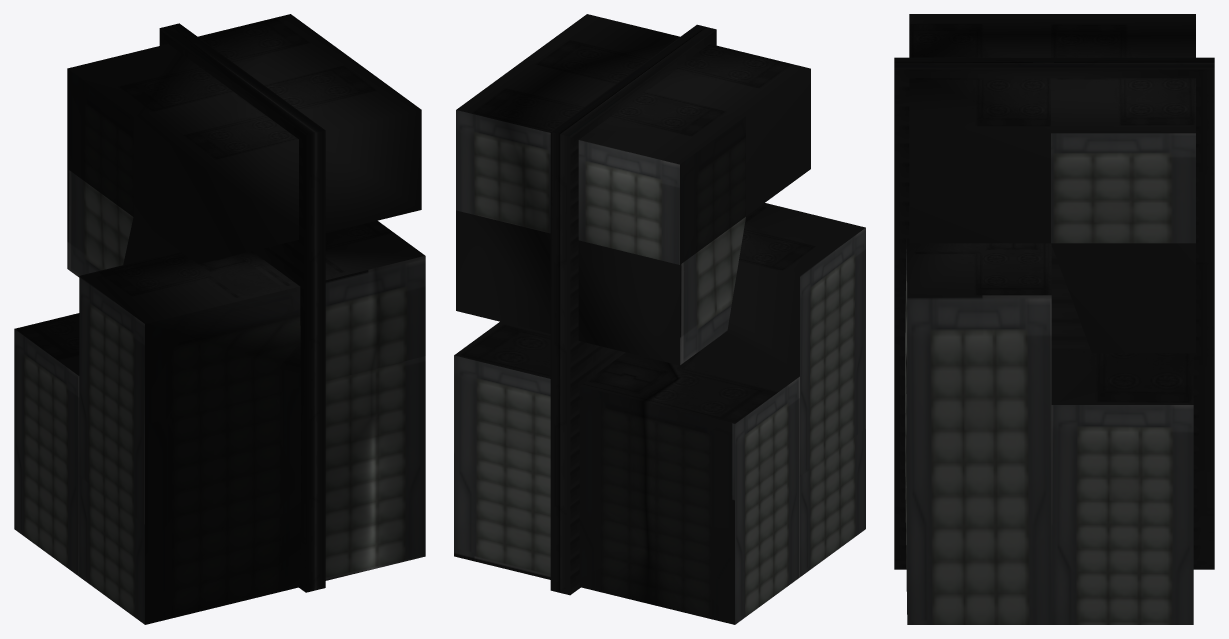
File: C.H.I.L.D. Building.fbx
3 renders of one model, left to right at view 1: azimuth 30°, elevation 25°; view 2: azimuth 150°, elevation 25°; view 3: azimuth 270°, elevation 25°, orthographic. The views are drawn at different scales.
Parts seen in each view (by area): view 1: Cube.002; view 2: Cube.002; view 3: Cube.002.
Boxes of the visible parts, x1,y1,x2,y2 form: Cube.002: (14, 14, 425, 624); Cube.002: (454, 14, 865, 624); Cube.002: (894, 14, 1214, 624).
Size of the model in its own units: 341 by 532 by 308.
